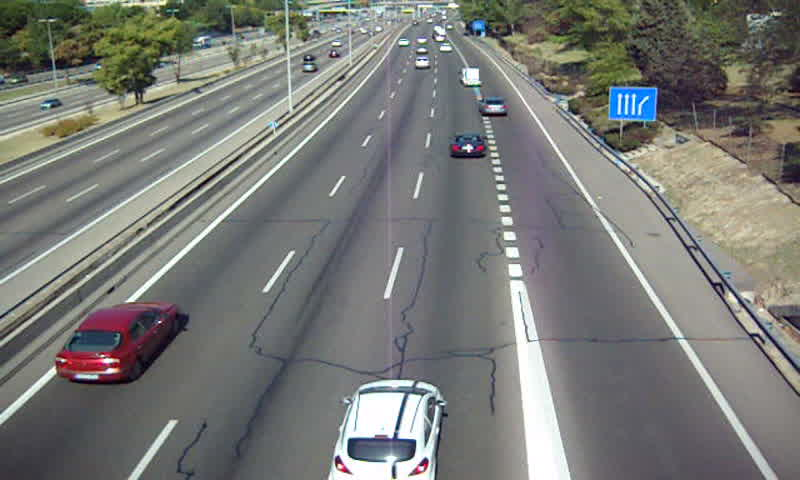car: (327, 380, 443, 480), (53, 302, 179, 383), (451, 134, 487, 158), (481, 97, 507, 117), (414, 56, 430, 68)
van: (461, 66, 480, 84)
